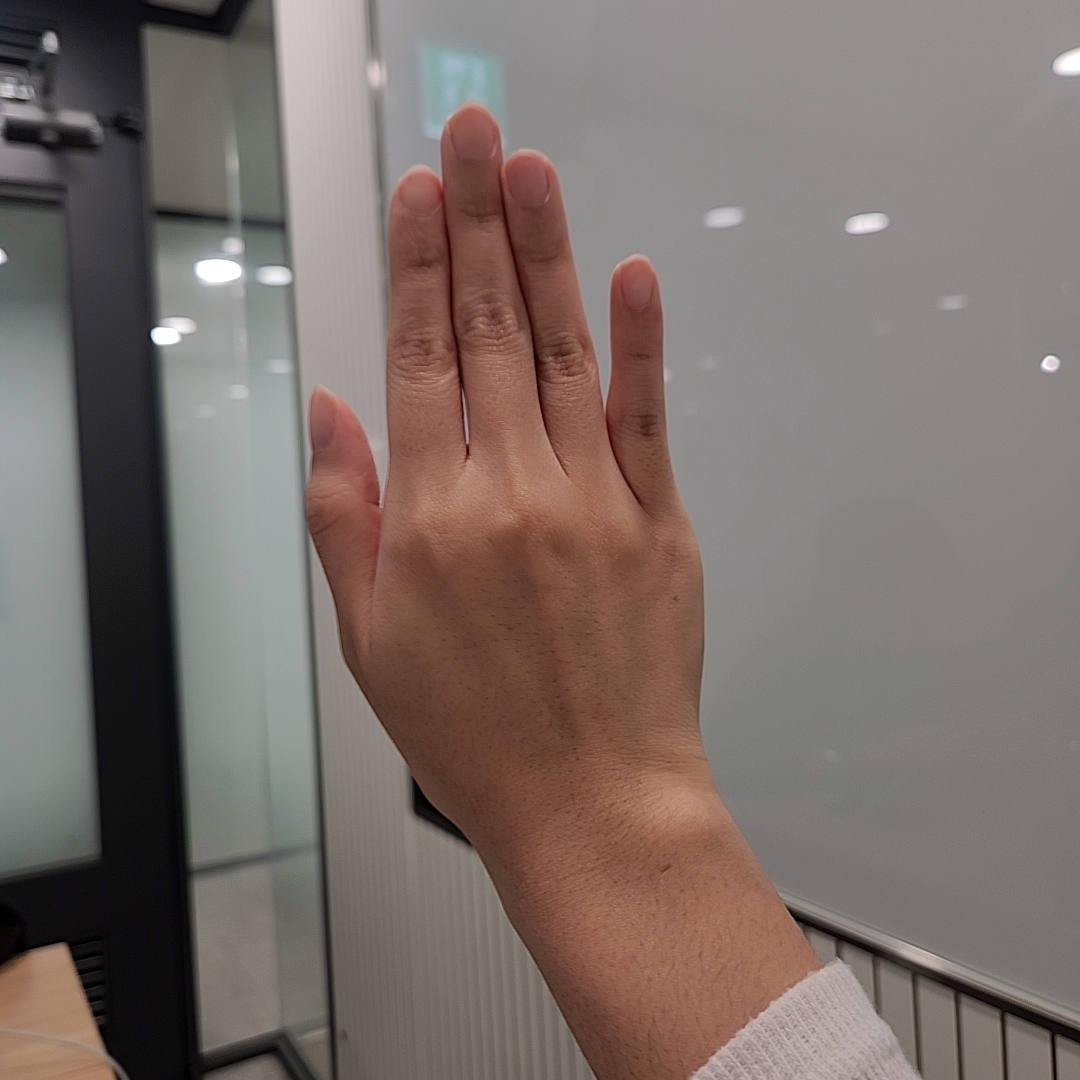me: (306, 101, 707, 840)
